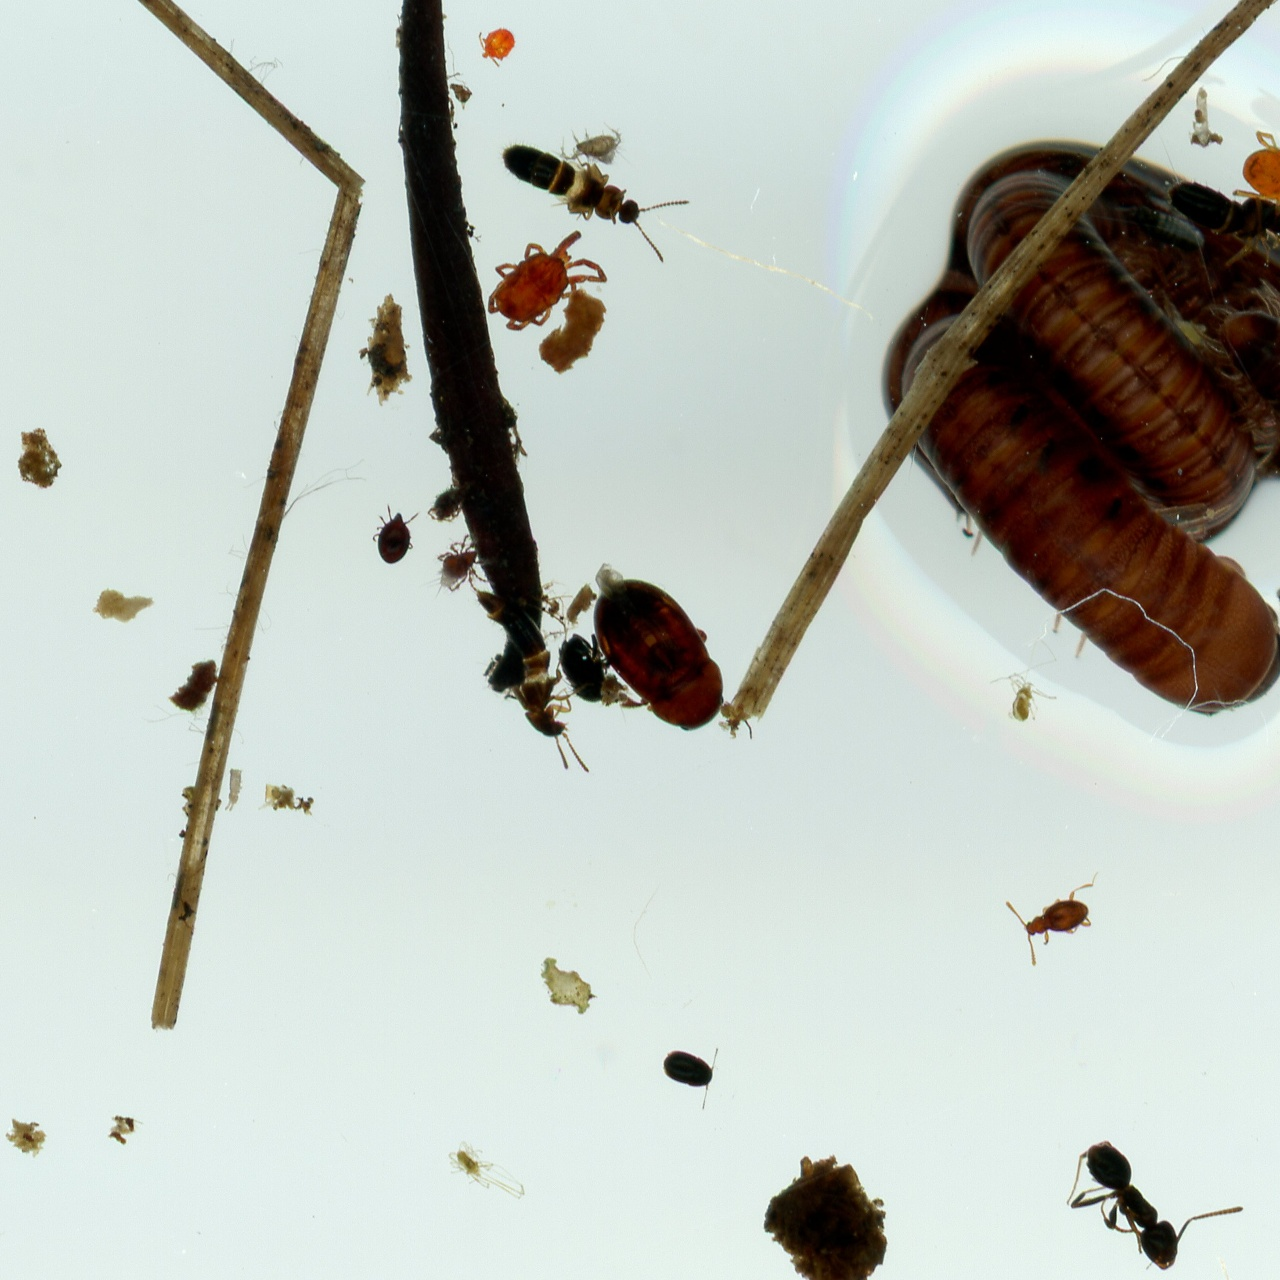arthropod: (884, 137, 1280, 712), (1067, 1142, 1242, 1273), (503, 142, 690, 263), (594, 564, 724, 733), (474, 591, 591, 774), (488, 230, 610, 332), (1006, 870, 1107, 967), (1171, 181, 1280, 265), (993, 635, 1057, 720), (447, 1137, 527, 1201), (661, 1043, 722, 1109), (1231, 130, 1280, 210), (433, 535, 491, 595), (558, 633, 608, 703), (372, 505, 420, 565), (561, 122, 624, 165), (478, 27, 517, 68), (429, 483, 469, 520), (224, 768, 244, 810)
